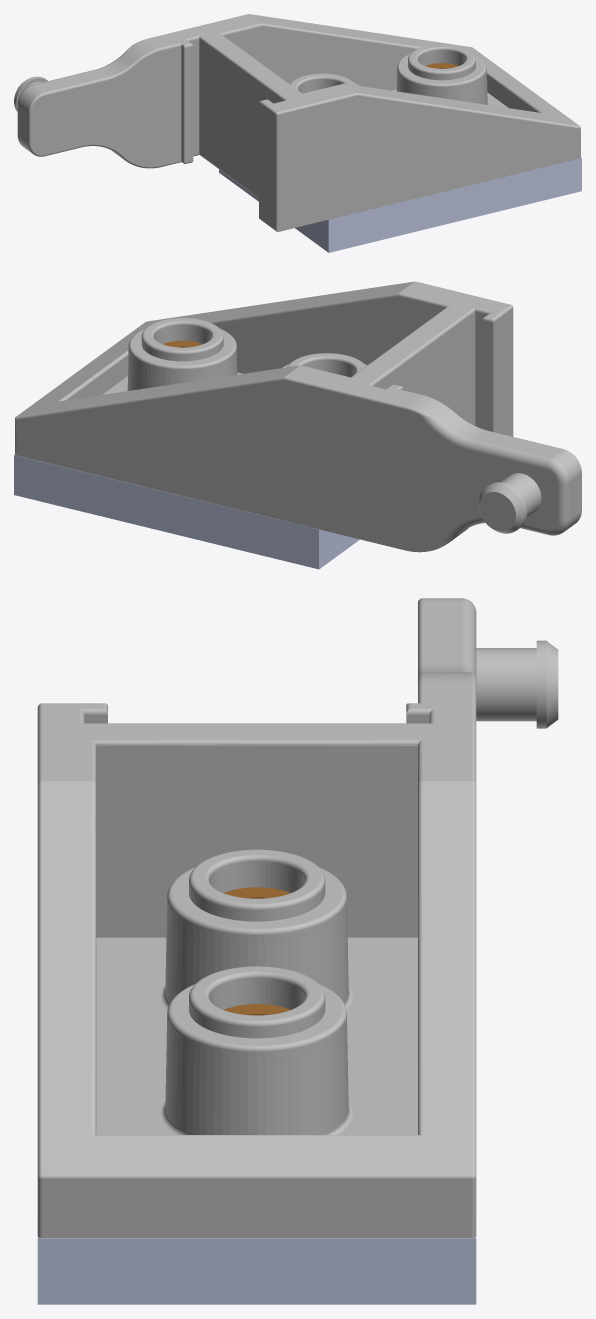
File: GripperRight.dae
3 renders of one model, top to bottom at view 1: azimuth 30°, elevation 25°; view 2: azimuth 150°, elevation 25°; view 3: azimuth 270°, elevation 25°, orthographic. The views are drawn at different scales.
Visible parts, largest first — view 1: node2, node1; view 2: node2, node1; view 3: node2, node1.
Part boxes in pixels (x1,y1,x2,y2): node2: (14, 14, 580, 231); node1: (219, 157, 581, 252); node2: (15, 281, 581, 552); node1: (14, 454, 359, 569); node2: (37, 598, 558, 1237); node1: (37, 1236, 476, 1304).
Bounding box in the file's own units: 0.0459 × 0.0226 × 0.0146.
